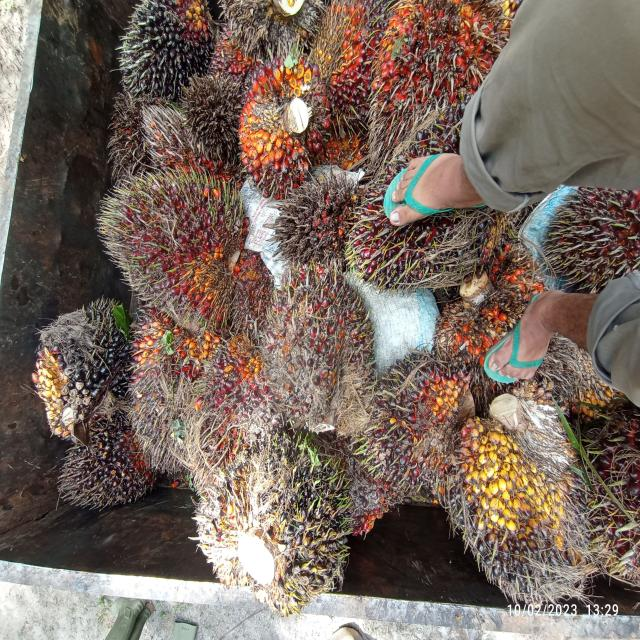fraksi 00: (192, 370, 351, 614), (451, 389, 593, 621), (32, 289, 120, 434), (40, 410, 150, 520), (110, 0, 214, 94)
fraksi 1: (259, 255, 380, 447), (370, 341, 470, 539)
fraksi 3: (80, 162, 240, 316), (232, 20, 338, 212), (316, 0, 379, 122)
fraksi 4: (373, 0, 488, 146)
